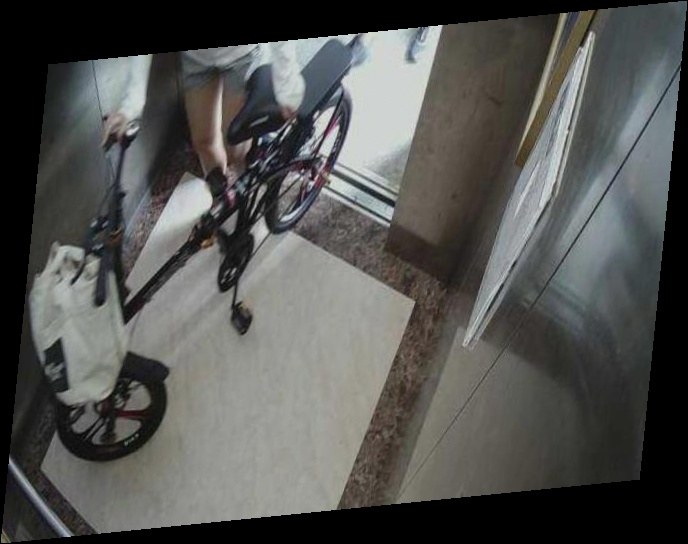bicycle: (36, 50, 377, 456)
